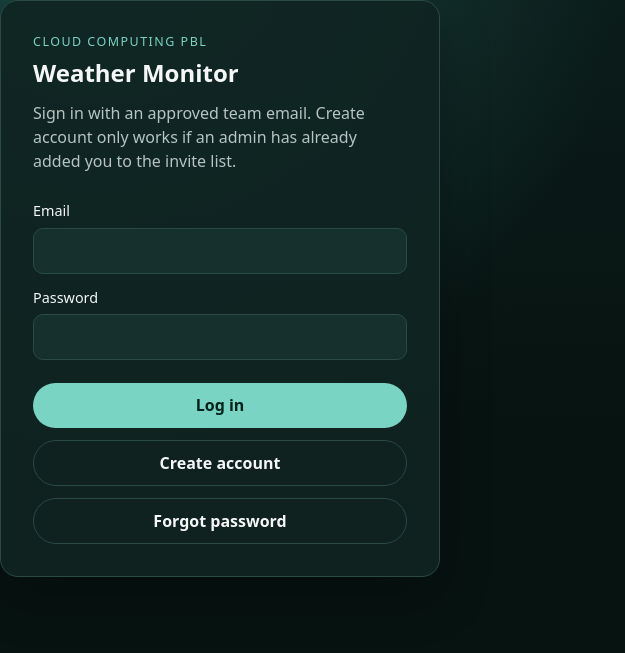
it: Login › shows a validation message when fields are empty
Click the button "Log in". click: (220, 406)
box: [33, 383, 407, 428]
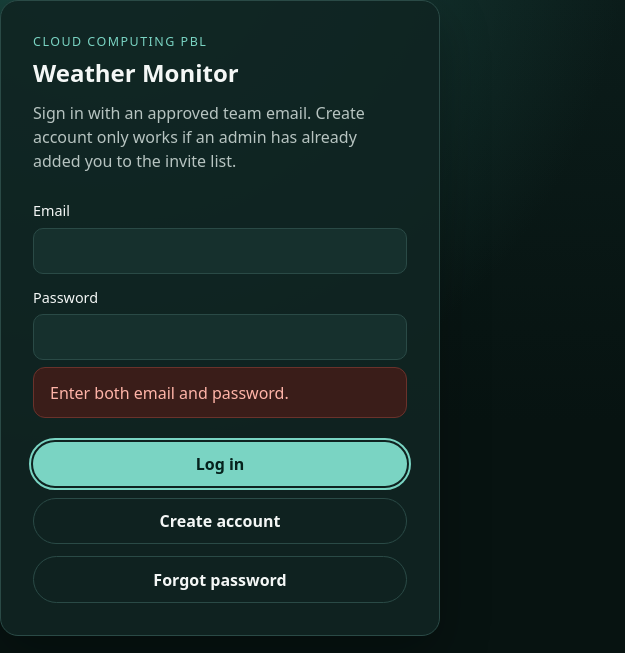
Result: the message shows "email and password" at [50, 382, 289, 404]
